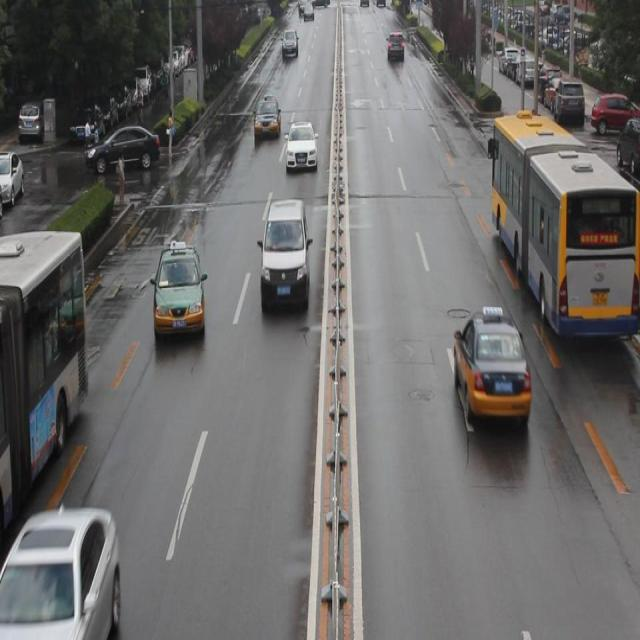car: (1, 510, 122, 630), (451, 299, 529, 428), (154, 242, 204, 340), (86, 128, 158, 172), (287, 120, 316, 170), (254, 94, 279, 138)
truck: (261, 198, 310, 313)
van: (490, 115, 640, 342), (0, 229, 90, 539)
